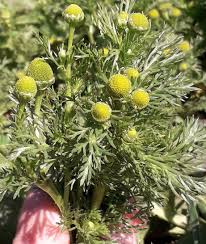pineple: (82, 98, 176, 189), (107, 8, 184, 93)
